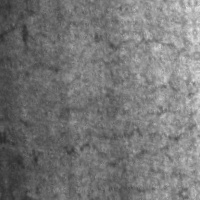crazing: (50, 23, 200, 170)
